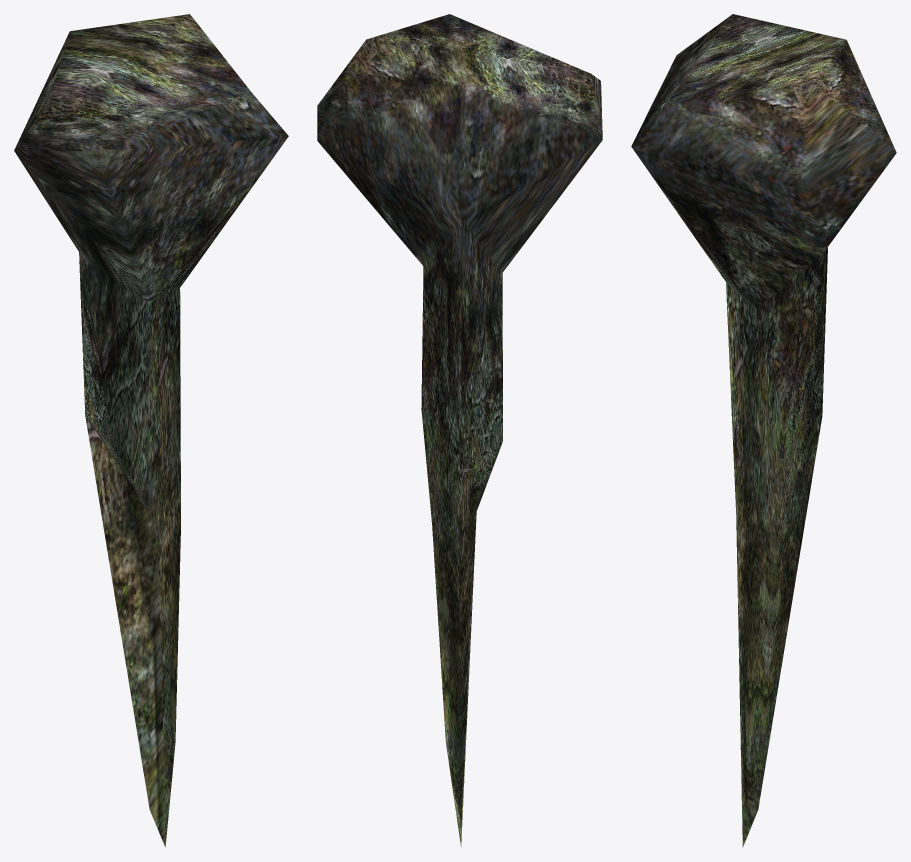
File: thm_all_cave_stalagtite_damprock_a2_l1.fbx
3 renders of one model, left to right at view 1: azimuth 30°, elevation 25°; view 2: azimuth 150°, elevation 25°; view 3: azimuth 270°, elevation 25°, orthographic. The views are drawn at different scales.
Visible parts, largest first — view 1: mesh_node; view 2: mesh_node; view 3: mesh_node.
Part boxes in pixels (bbox=[...]): mesh_node: bbox=[14, 14, 288, 847]; mesh_node: bbox=[317, 14, 602, 847]; mesh_node: bbox=[631, 14, 896, 847].
Size of the model in its own units: 0.6292 by 1.89 by 0.5742.
